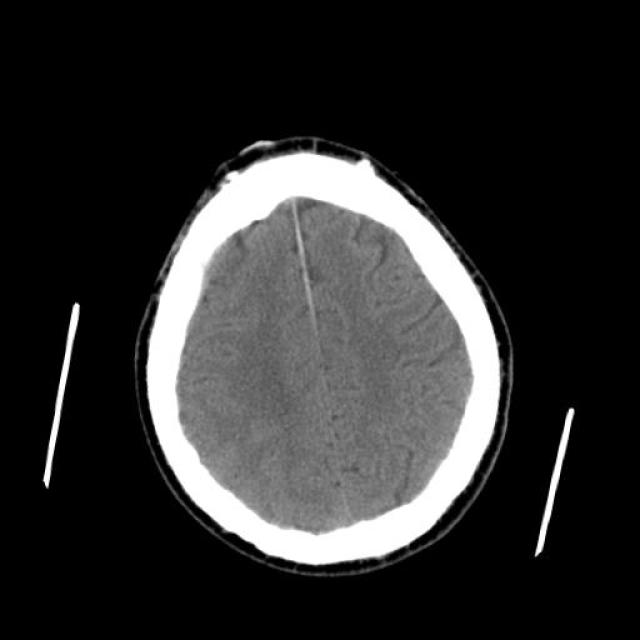Subdural: (240, 164, 366, 340)
